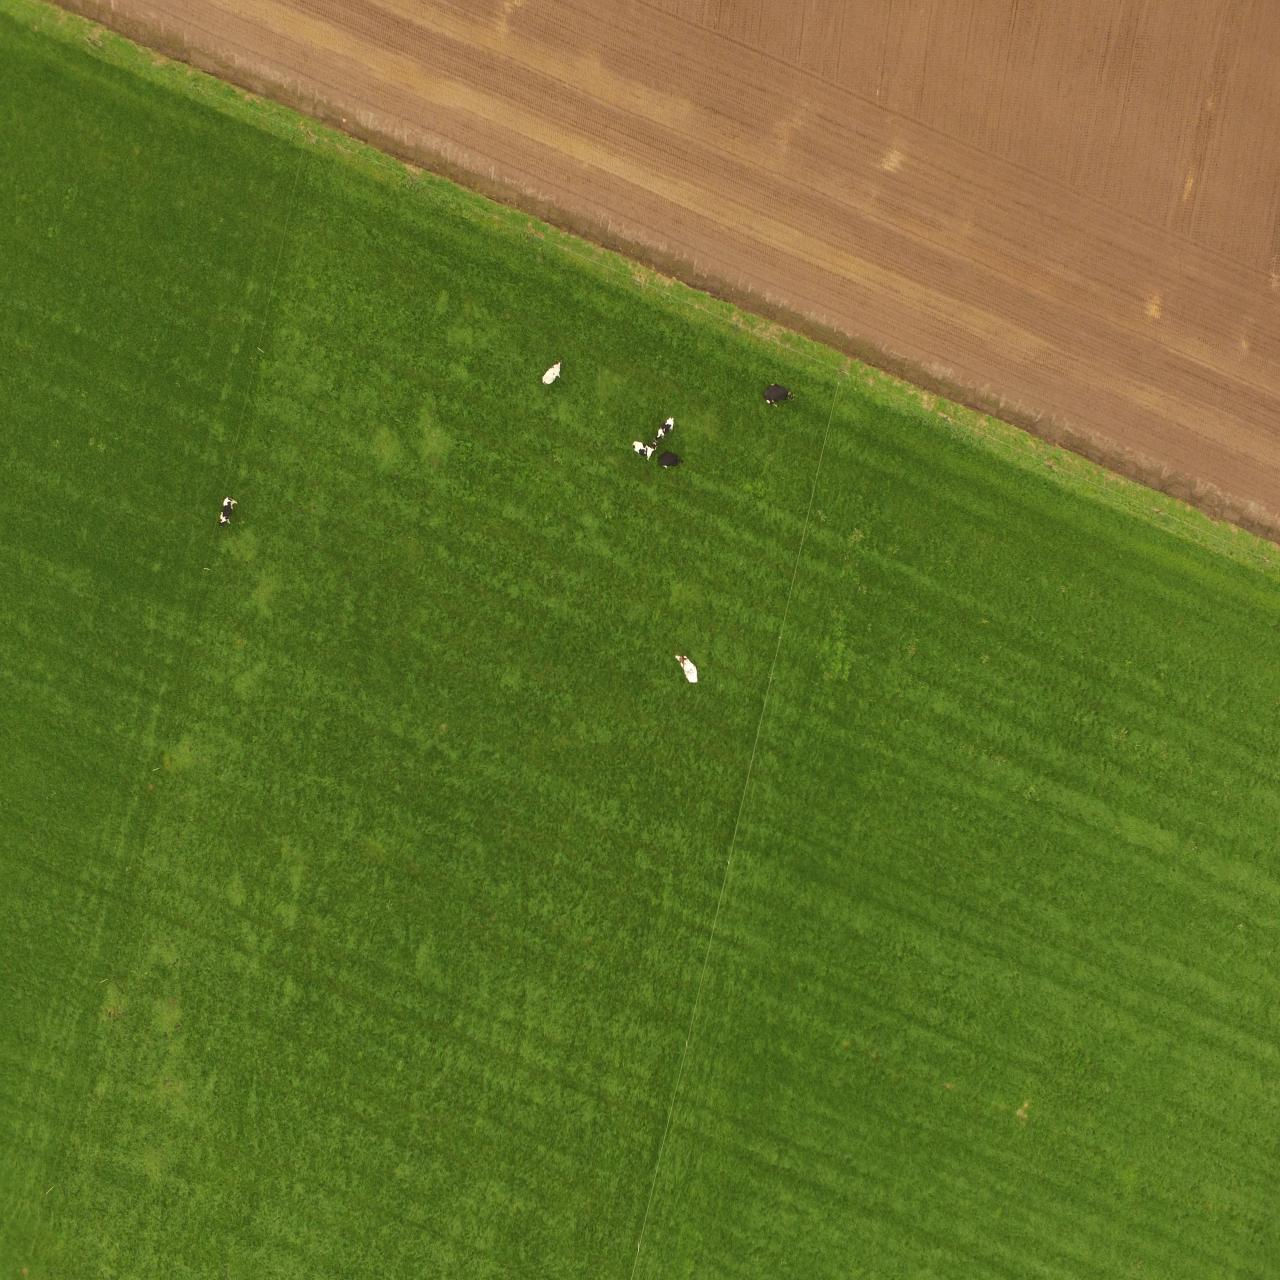cow: (761, 383, 797, 414), (674, 652, 703, 685), (538, 356, 560, 390), (217, 495, 237, 531), (658, 450, 688, 471), (656, 414, 676, 438), (632, 441, 655, 459)
